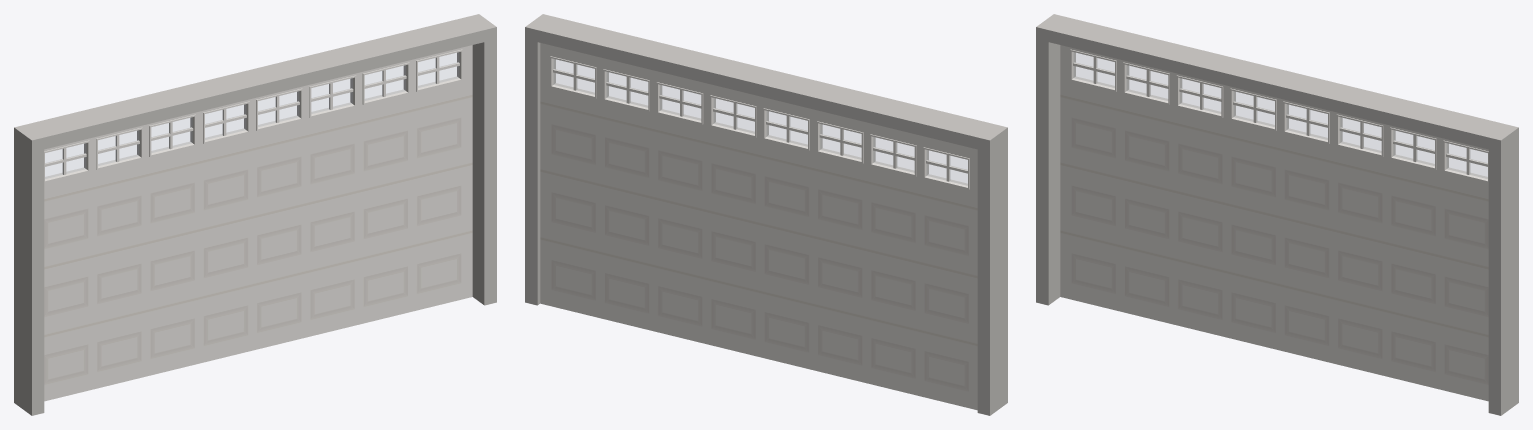
Rendered from garage-door.glb.
3 renders of one model, left to right at view 1: azimuth 30°, elevation 25°; view 2: azimuth 150°, elevation 25°; view 3: azimuth 330°, elevation 25°, orthographic.
Size of the model in its own units: 391 by 221 by 25.99.
3 materials, 1 textured.
